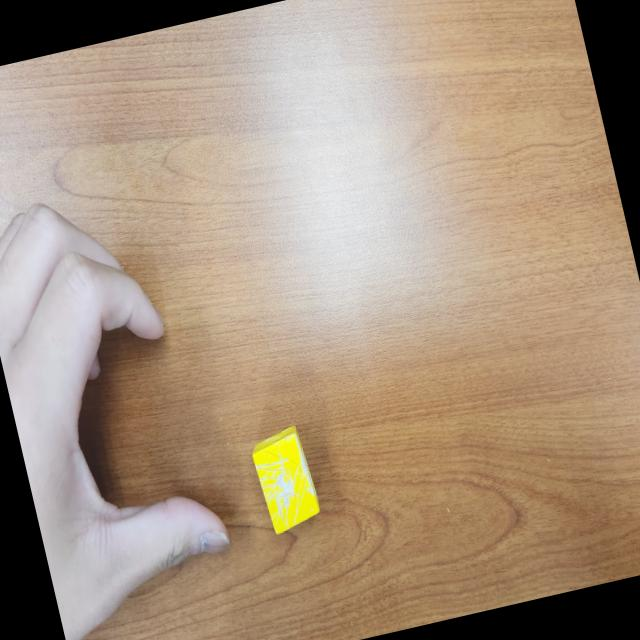broken: (247, 422, 324, 538)
